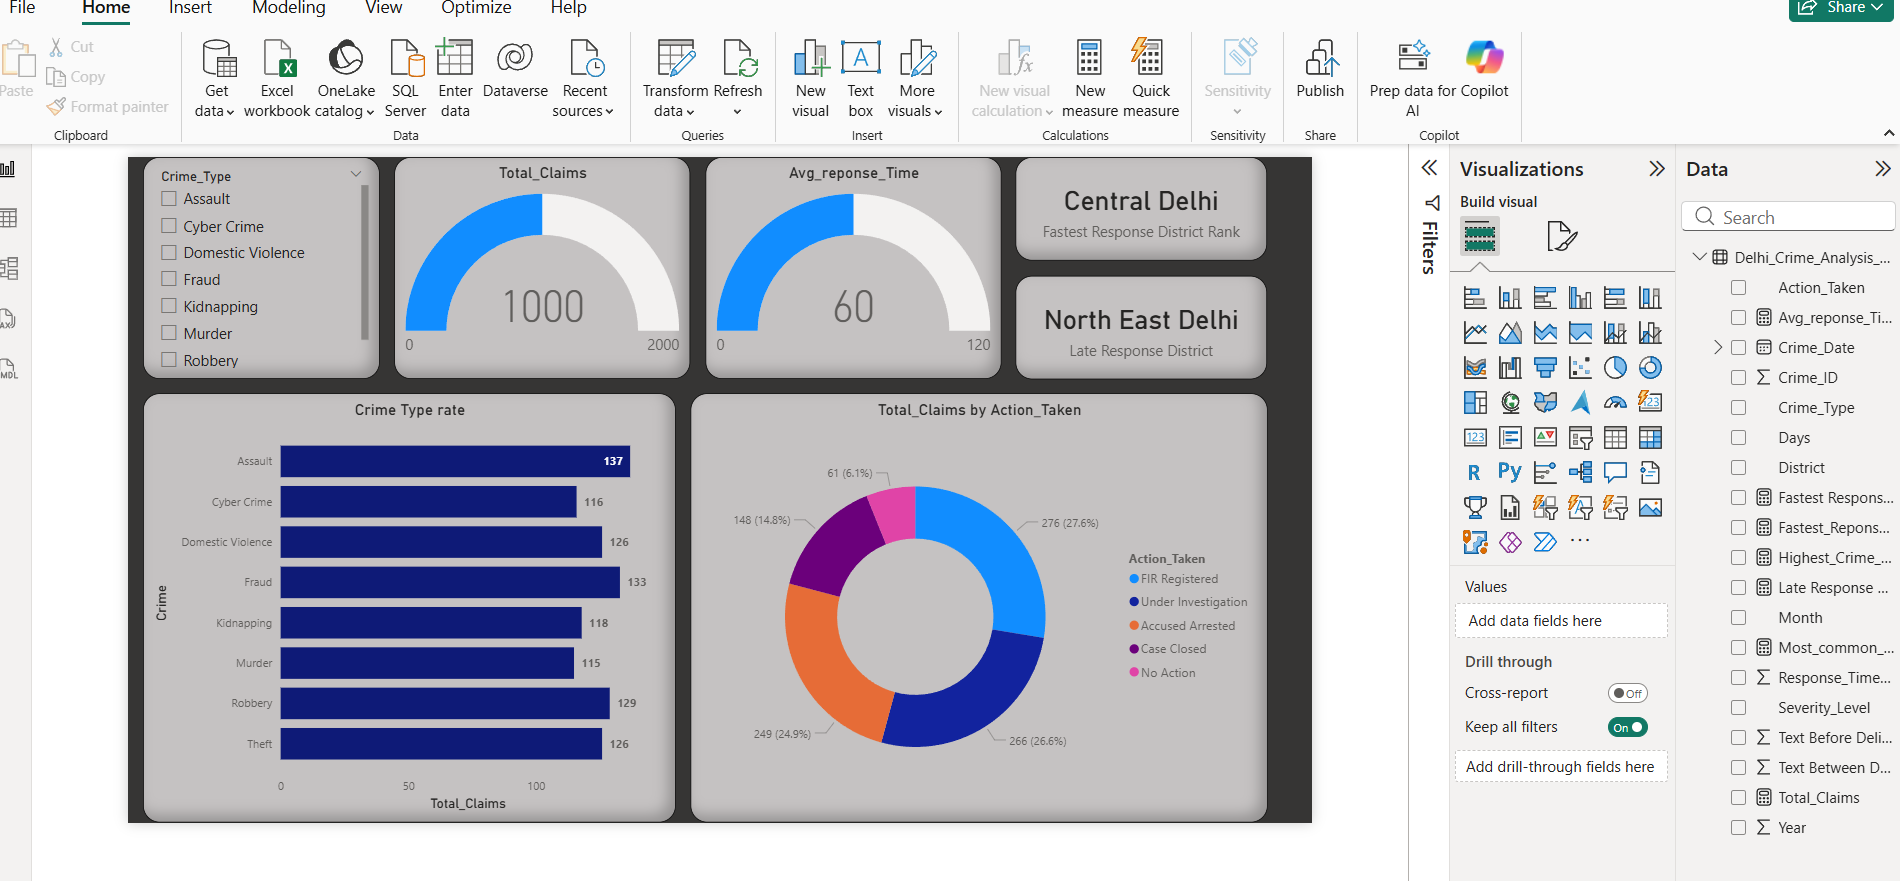

The page's visual inventory and layout, read from the dashboard file:
{"tool":"powerbi","page":{"name":"Page 2","canvas":[1280,720],"ordinal":1},"visuals":[{"type":"barChart","title":"Crime Type rate","fields":{"Category":["Delhi_Crime_Analysis_Data.Crime_Type","Delhi_Crime_Analysis_Data.Crime_Date.Variation.Date Hierarchy.Year"],"Y":["Delhi_Crime_Analysis_Data.Total_Claims"]},"box":[16,256,576,464],"z":0},{"type":"slicer","fields":{"Values":["Delhi_Crime_Analysis_Data.Crime_Type"]},"box":[16,0,256,240],"z":1000},{"type":"gauge","fields":{"Y":["Delhi_Crime_Analysis_Data.Total_Claims"]},"box":[288,0,320,240],"z":2000},{"type":"card","fields":{"Values":["Delhi_Crime_Analysis_Data.Fastest Response District Rank"]},"box":[960,0,272,112],"z":2001},{"type":"gauge","fields":{"Y":["Delhi_Crime_Analysis_Data.Avg_reponse_Time"]},"box":[624,0,320,240],"z":2002},{"type":"card","fields":{"Values":["Delhi_Crime_Analysis_Data.Late Response District"]},"box":[960,128,272,112],"z":2003},{"type":"donutChart","fields":{"Y":["Delhi_Crime_Analysis_Data.Total_Claims"],"Category":["Delhi_Crime_Analysis_Data.Action_Taken"]},"box":[608,256,624,464],"z":2004}]}

Visuals, with their boxes on the page's 1280x720 design canvas (x1, y1, x2, y2). These are canvas units, not pixel positions in the 1900x881 screenshot, which may show the page scaled, cropped or inside an application window:
"Crime Type rate" barChart: {"left": 16, "top": 256, "right": 592, "bottom": 720}
slicer - Delhi_Crime_Analysis_Data.Crime_Type: {"left": 16, "top": 0, "right": 272, "bottom": 240}
gauge - Delhi_Crime_Analysis_Data.Total_Claims: {"left": 288, "top": 0, "right": 608, "bottom": 240}
card - Delhi_Crime_Analysis_Data.Fastest Response District Rank: {"left": 960, "top": 0, "right": 1232, "bottom": 112}
gauge - Delhi_Crime_Analysis_Data.Avg_reponse_Time: {"left": 624, "top": 0, "right": 944, "bottom": 240}
card - Delhi_Crime_Analysis_Data.Late Response District: {"left": 960, "top": 128, "right": 1232, "bottom": 240}
donutChart - Delhi_Crime_Analysis_Data.Total_Claims x Delhi_Crime_Analysis_Data.Action_Taken: {"left": 608, "top": 256, "right": 1232, "bottom": 720}
